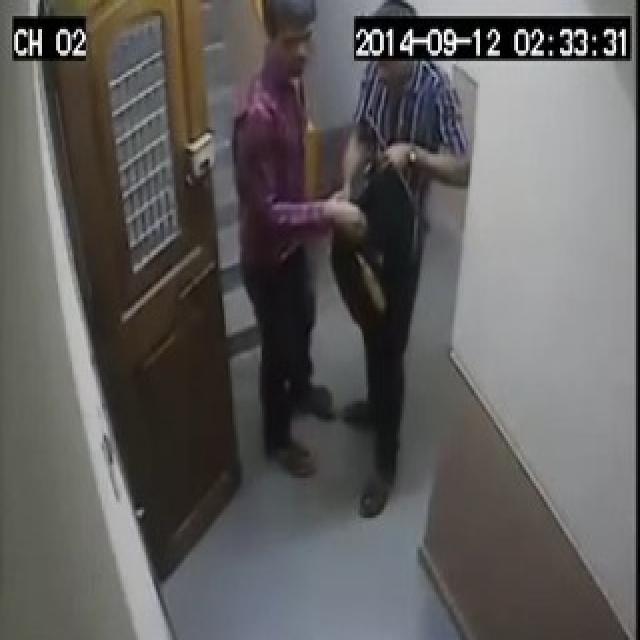thief: (228, 0, 460, 544)
